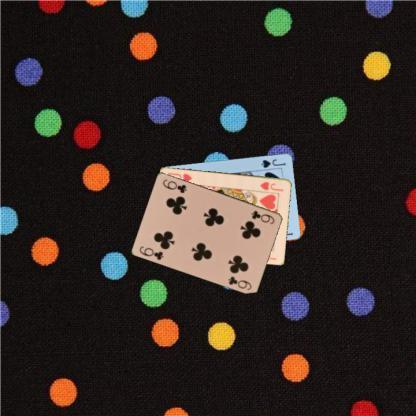6c: (136, 243, 166, 261), (249, 208, 276, 226)
Jh: (258, 179, 284, 193)
Js: (259, 156, 286, 168)
